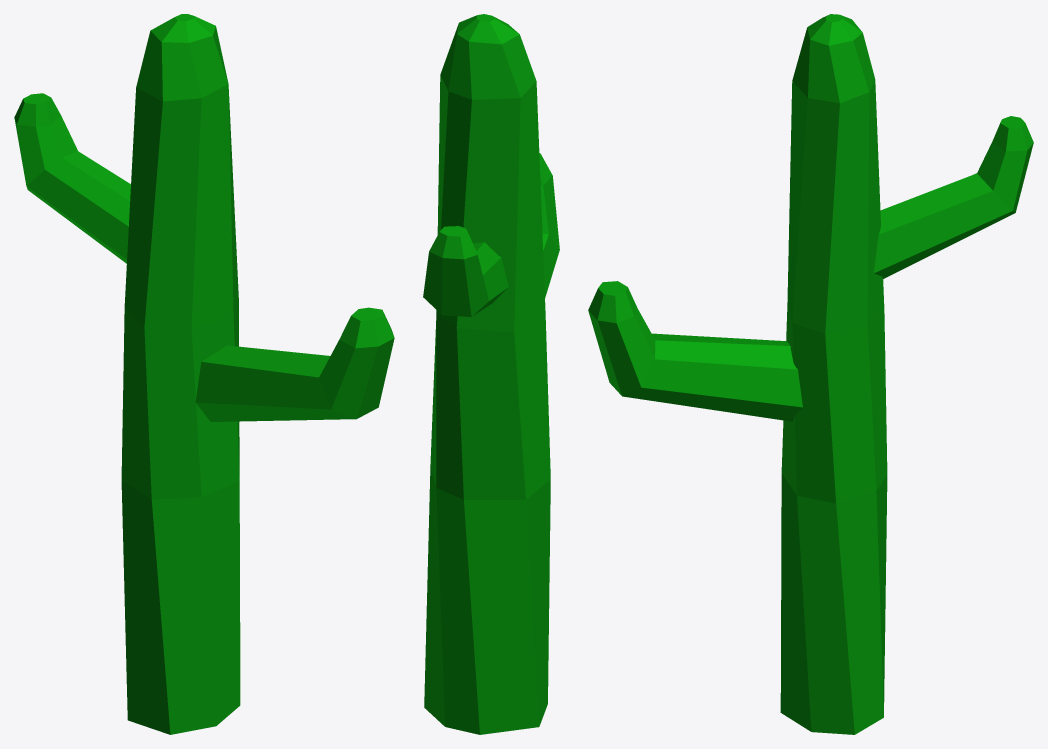
The model's file is Cactus4.fbx.
3 views of the same model, side by side, from view 1: azimuth 30°, elevation 25°; view 2: azimuth 150°, elevation 25°; view 3: azimuth 270°, elevation 25° (orthographic).
Visible parts, largest first — view 1: Cactus1; view 2: Cactus1; view 3: Cactus1.
Boxes of the visible parts, x1,y1,x2,y2 form: Cactus1: (14, 14, 394, 734); Cactus1: (423, 14, 559, 734); Cactus1: (588, 14, 1033, 734).
Bounding box in the file's own units: 130 × 474 × 277.
